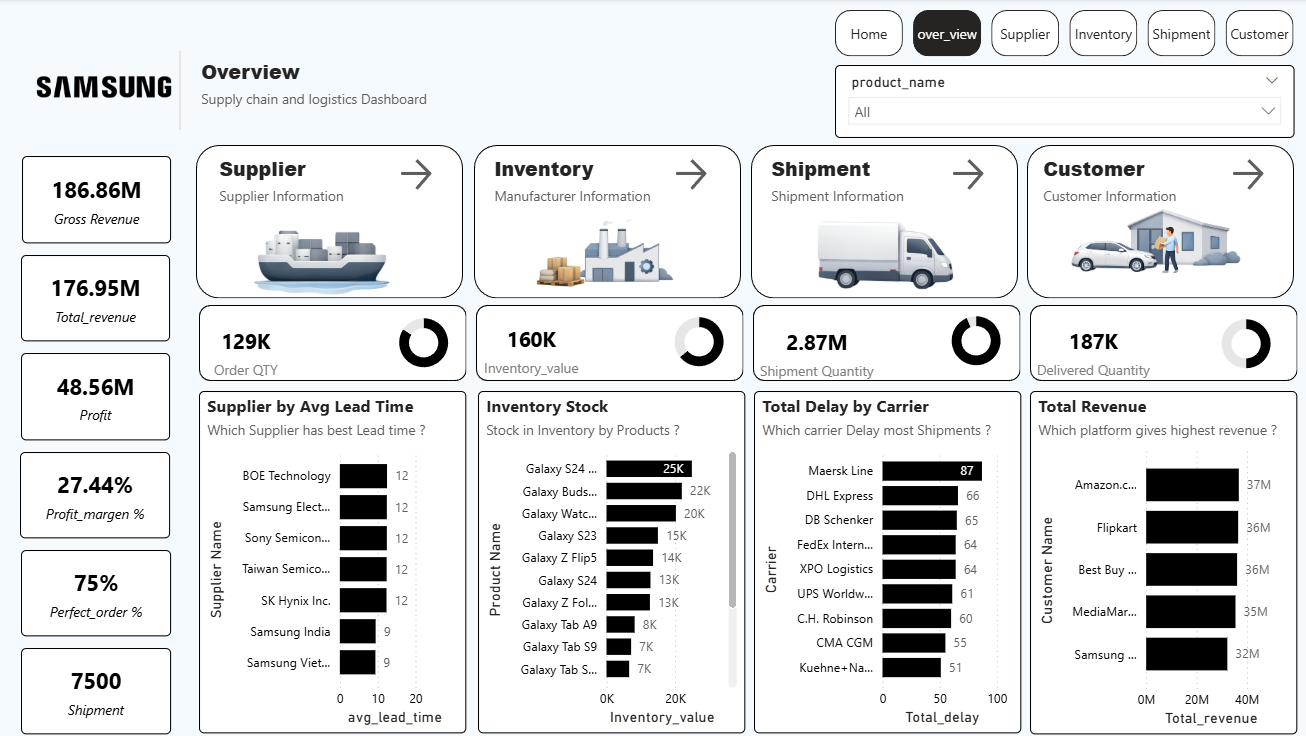

What the dashboard file says about the page in this screenshot:
{"tool":"powerbi","page":{"name":"over_view","canvas":[1280,720],"ordinal":1},"visuals":[{"type":"shape","box":[467.2,142.1,259.7,149.3],"z":0},{"type":"shape","box":[196.3,142.1,259.7,149.3],"z":1000},{"type":"shape","box":[736.1,142.1,259.7,149.3],"z":2000},{"type":"shape","box":[1005,142.1,259.7,149.3],"z":3000},{"type":"image","box":[1040.8,174.8,187.1,116.5],"z":4000},{"type":"image","box":[785.2,195.3,160.5,96.1],"z":5000},{"type":"image","box":[230,206.5,169.7,84.9],"z":6000},{"type":"image","box":[499.9,195.3,178.9,96.1],"z":7000},{"type":"actionButton","box":[390,150.8,56.4,39.9],"z":8000},{"type":"actionButton","box":[657.5,150.8,56.4,39.9],"z":9000},{"type":"actionButton","box":[926.9,150.8,56.4,39.9],"z":10000},{"type":"actionButton","box":[1199.3,150.8,56.4,39.9],"z":11000},{"type":"textbox","title":"Supplier ","box":[214,150.8,176,58.4],"z":12000},{"type":"textbox","title":"Inventory ","box":[481.5,150.8,176,58.4],"z":13000},{"type":"textbox","title":"Shipment  ","box":[750.9,150.8,176,58.4],"z":14000},{"type":"textbox","title":"Customer","box":[1015.4,150.8,176,58.4],"z":15000},{"type":"image","box":[0,0,214,171.2],"z":16000},{"type":"shape","box":[73.9,50.6,214,76.8],"z":17000},{"type":"textbox","title":"Overview ","box":[196.5,56.4,250,58.4],"z":18000},{"type":"card","fields":{"Values":["measure_table.Total_revenue"]},"box":[26,249.2,145,84],"z":19000},{"type":"card","fields":{"Values":["measure_table.Profit"]},"box":[26,344.5,145,84.8],"z":20000},{"type":"card","fields":{"Values":["measure_table.Profit_margen %"]},"box":[25,440.6,145.9,84],"z":21000},{"type":"card","fields":{"Values":["measure_table.Perfect_order %"]},"box":[26,535.9,145.9,84],"z":22000},{"type":"card","fields":{"Values":["measure_table.Total_shipment"]},"box":[26,631.1,145.9,84],"z":23000},{"type":"card","title":"Gross Profit ","fields":{"Values":["Sum(Sales.gross_revenue)"]},"box":[27,152.9,145,85],"z":24000},{"type":"shape","box":[199.3,297.3,260.3,74],"z":25000},{"type":"shape","box":[468.9,297.3,260.3,74],"z":26000},{"type":"shape","box":[738.4,297.3,260.3,74],"z":27000},{"type":"shape","box":[1007.9,297.3,260.3,74],"z":28000},{"type":"card","fields":{"Values":["measure_table.Order QTY"]},"box":[181,306.7,127.8,73.6],"z":29000},{"type":"card","fields":{"Values":["measure_table.Inventory_value"]},"box":[458,304.7,128.8,73.6],"z":30000},{"type":"card","fields":{"Values":["measure_table.Total_shipment_quantity"]},"box":[736.1,307.7,127.8,73.6],"z":31000},{"type":"card","fields":{"Values":["measure_table.Total_Delivered_quantity"]},"box":[1005,306.7,128.8,73.6],"z":32000},{"type":"clusteredBarChart","title":"Supplier by Avg Lead Time ","fields":{"Y":["measure_table.avg_lead_time"],"Category":["Supplier.supplier_name"]},"box":[199.4,381.2,259.7,333.3],"z":33000},{"type":"clusteredBarChart","title":"Inventory Stock","fields":{"Y":["measure_table.Inventory_value"],"Category":["Product.product_name"]},"box":[470.3,381.2,259.7,333.3],"z":34000},{"type":"clusteredBarChart","title":"Total Delay by Carrier","fields":{"Category":["Shipment.carrier"],"Y":["measure_table.Total_delay"]},"box":[739.2,381.2,259.7,333.3],"z":35000},{"type":"clusteredBarChart","title":"Total Revenue ","fields":{"Y":["measure_table.Total_revenue"],"Category":["Customer.customer_name"]},"box":[1008.1,381.3,259.7,334.3],"z":36000},{"type":"donutChart","fields":{"Y":["measure_table.Order QTY","measure_table.Defect_rate"]},"box":[354.8,299.6,125.8,69.5],"z":37000},{"type":"donutChart","fields":{"Y":["measure_table.Inventory_value","measure_table.Sefet_stock"]},"box":[623.6,298.5,124.7,69.5],"z":38000},{"type":"donutChart","fields":{"Y":["measure_table.Total_shipment_quantity","measure_table.Total_Delivered_quantity"]},"box":[892.5,297.5,124.7,69.5],"z":39000},{"type":"donutChart","fields":{"Y":["measure_table.Total_Delivered_quantity","measure_table.Total_QTY_delay"]},"box":[1155.3,300.6,124.7,69.5],"z":40000},{"type":"pageNavigator","box":[818,10.7,451.3,45.7],"z":41000},{"type":"slicer","fields":{"Values":["Product.product_name"]},"box":[817.6,63.7,447.2,70.8],"z":42000}]}

Visuals, with their boxes in screenshot pixels (x1, y1, x2, y2), scaled from the page's 1280x720 canvas onto the 1306x736 screenshot:
shape: box(477, 145, 742, 298)
shape: box(200, 145, 465, 298)
shape: box(751, 145, 1016, 298)
shape: box(1025, 145, 1290, 298)
image: box(1062, 179, 1253, 298)
image: box(801, 200, 965, 298)
image: box(235, 211, 408, 298)
image: box(510, 200, 693, 298)
actionButton: box(398, 154, 455, 195)
actionButton: box(671, 154, 728, 195)
actionButton: box(946, 154, 1003, 195)
actionButton: box(1224, 154, 1281, 195)
"Supplier " textbox: box(218, 154, 398, 214)
"Inventory " textbox: box(491, 154, 671, 214)
"Shipment  " textbox: box(766, 154, 946, 214)
"Customer" textbox: box(1036, 154, 1216, 214)
image: box(0, 0, 218, 175)
shape: box(75, 52, 294, 130)
"Overview " textbox: box(200, 58, 456, 117)
card - measure_table.Total_revenue: box(27, 255, 174, 341)
card - measure_table.Profit: box(27, 352, 174, 439)
card - measure_table.Profit_margen %: box(26, 450, 174, 536)
card - measure_table.Perfect_order %: box(27, 548, 175, 634)
card - measure_table.Total_shipment: box(27, 645, 175, 731)
"Gross Profit " card: box(28, 156, 175, 243)
shape: box(203, 304, 469, 380)
shape: box(478, 304, 744, 380)
shape: box(753, 304, 1019, 380)
shape: box(1028, 304, 1294, 380)
card - measure_table.Order QTY: box(185, 314, 315, 389)
card - measure_table.Inventory_value: box(467, 311, 599, 387)
card - measure_table.Total_shipment_quantity: box(751, 315, 881, 390)
card - measure_table.Total_Delivered_quantity: box(1025, 314, 1157, 389)
"Supplier by Avg Lead Time " clusteredBarChart: box(203, 390, 468, 730)
"Inventory Stock" clusteredBarChart: box(480, 390, 745, 730)
"Total Delay by Carrier" clusteredBarChart: box(754, 390, 1019, 730)
"Total Revenue " clusteredBarChart: box(1029, 390, 1294, 732)
donutChart - measure_table.Order QTY x measure_table.Defect_rate: box(362, 306, 490, 377)
donutChart - measure_table.Inventory_value x measure_table.Sefet_stock: box(636, 305, 763, 376)
donutChart - measure_table.Total_shipment_quantity x measure_table.Total_Delivered_quantity: box(911, 304, 1038, 375)
donutChart - measure_table.Total_Delivered_quantity x measure_table.Total_QTY_delay: box(1179, 307, 1305, 378)
pageNavigator: box(835, 11, 1295, 58)
slicer - Product.product_name: box(834, 65, 1290, 137)
